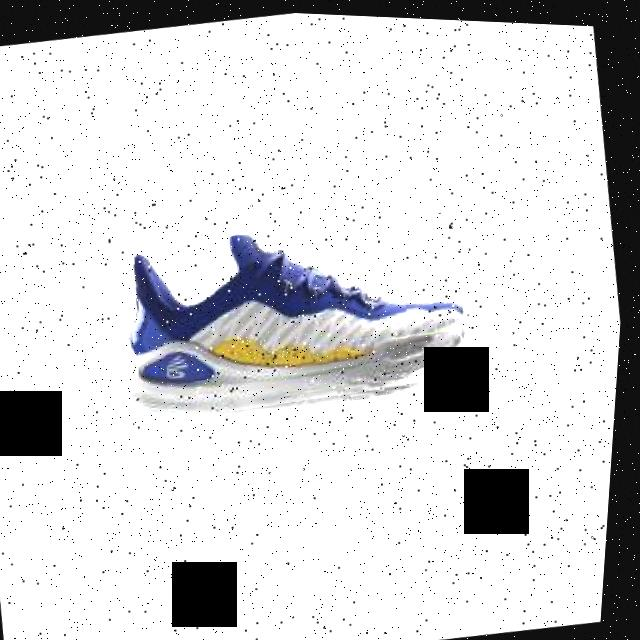shoe: (112, 194, 494, 437)
